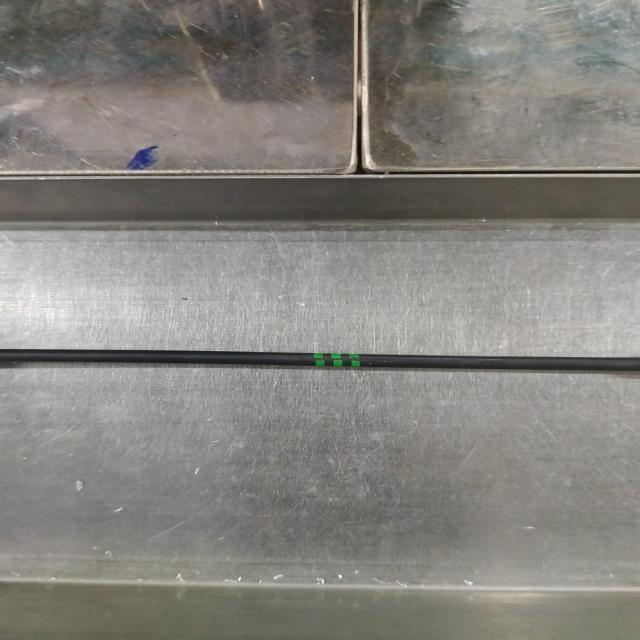green: (312, 353, 361, 368)
